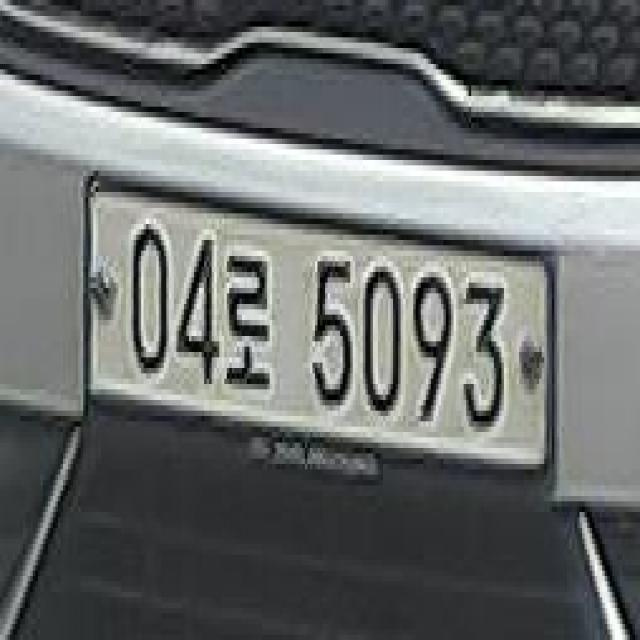illegal_plate: (86, 174, 556, 502)
